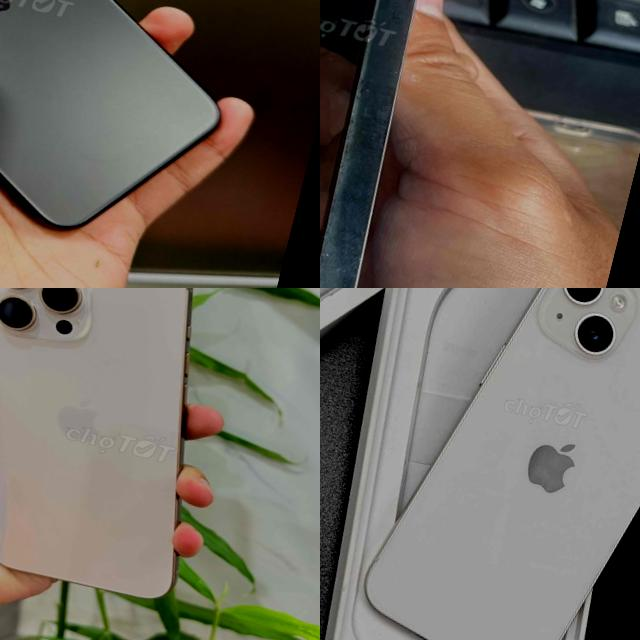gen_11: (0, 0, 283, 266)
gen_12_13: (320, 0, 513, 288)
gen_14: (343, 288, 640, 640)
gen_16: (0, 288, 191, 596)
